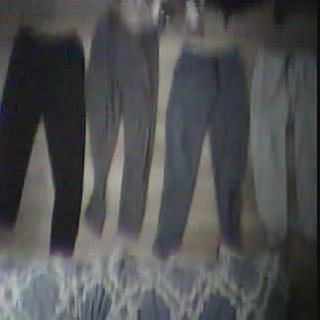Blue Sweatpants: (162, 46, 246, 259)
Gray Sweatpants: (86, 11, 160, 243)
Navy Sweatpants: (0, 26, 84, 257)
White Sweatpants: (253, 48, 320, 244)
